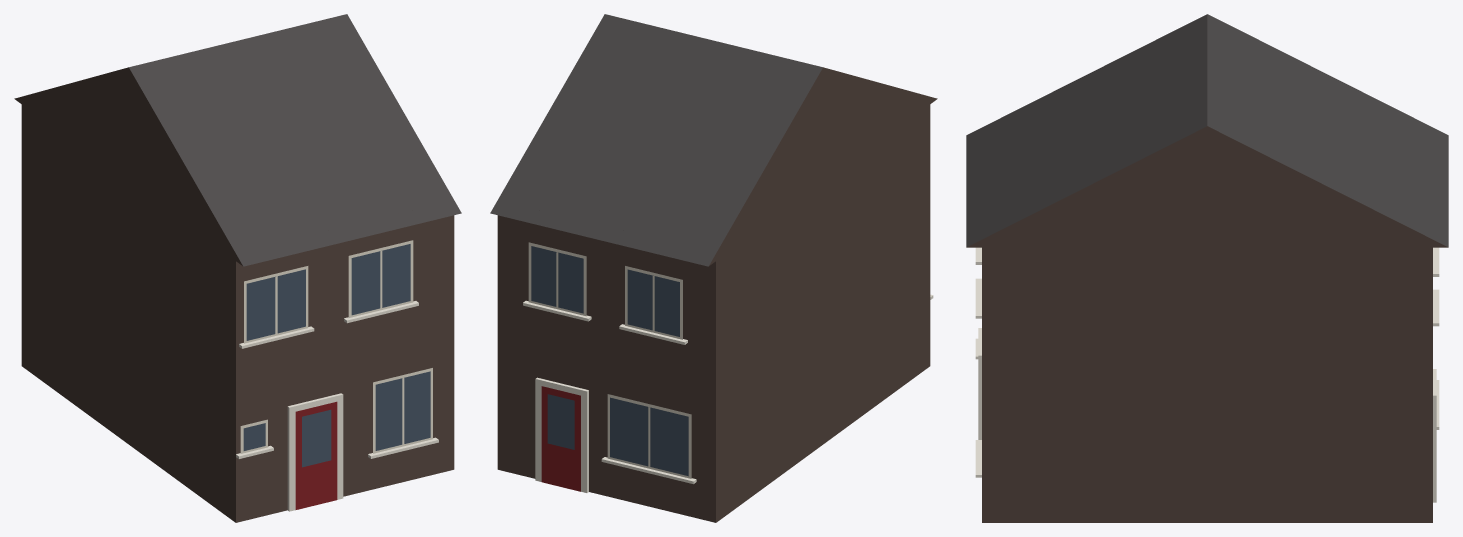
File: nw-rowhouse-door-window__slate__2__gable__long__solid__mirror.glb
3 renders of one model, left to right at view 1: azimuth 30°, elevation 25°; view 2: azimuth 150°, elevation 25°; view 3: azimuth 270°, elevation 25°, orthographic. The views are drawn at different scales.
Parts seen in each view (by area): view 1: nw-rowhouse-door-window__slate__2__gable__long__solid__mirro; view 2: nw-rowhouse-door-window__slate__2__gable__long__solid__mirro; view 3: nw-rowhouse-door-window__slate__2__gable__long__solid__mirro.
Part boxes in pixels (x1,y1,x2,y2): nw-rowhouse-door-window__slate__2__gable__long__solid__mirro: (14, 14, 461, 522); nw-rowhouse-door-window__slate__2__gable__long__solid__mirro: (490, 14, 937, 522); nw-rowhouse-door-window__slate__2__gable__long__solid__mirro: (966, 14, 1448, 522).
Bounding box in the file's own units: 4.99 × 8.23 × 9.07.
